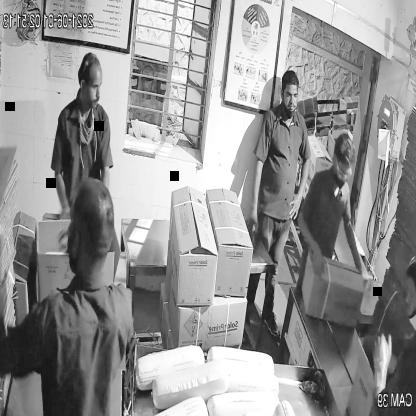goggles: (332, 160, 354, 186)
no_goggles: (275, 84, 305, 108), (77, 74, 104, 99)
